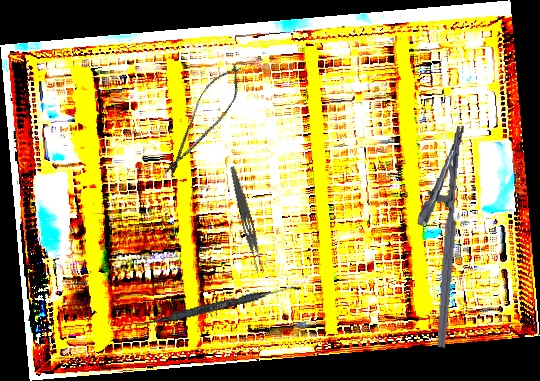Dressing Forceps: (225, 165, 267, 275)
Micro Scissor: (155, 56, 252, 185)
Needle Holder: (405, 123, 467, 348)
Spatula Surgical: (135, 279, 302, 333)
